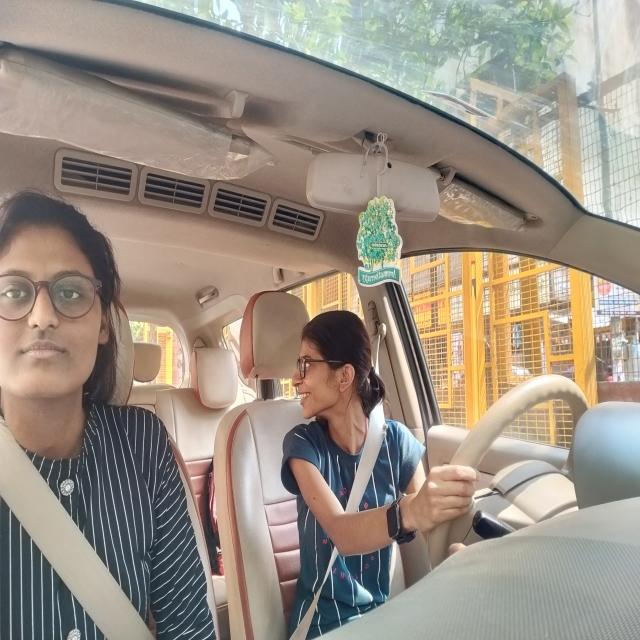LeftRight: (292, 318, 384, 429)
person: (2, 203, 112, 404)
